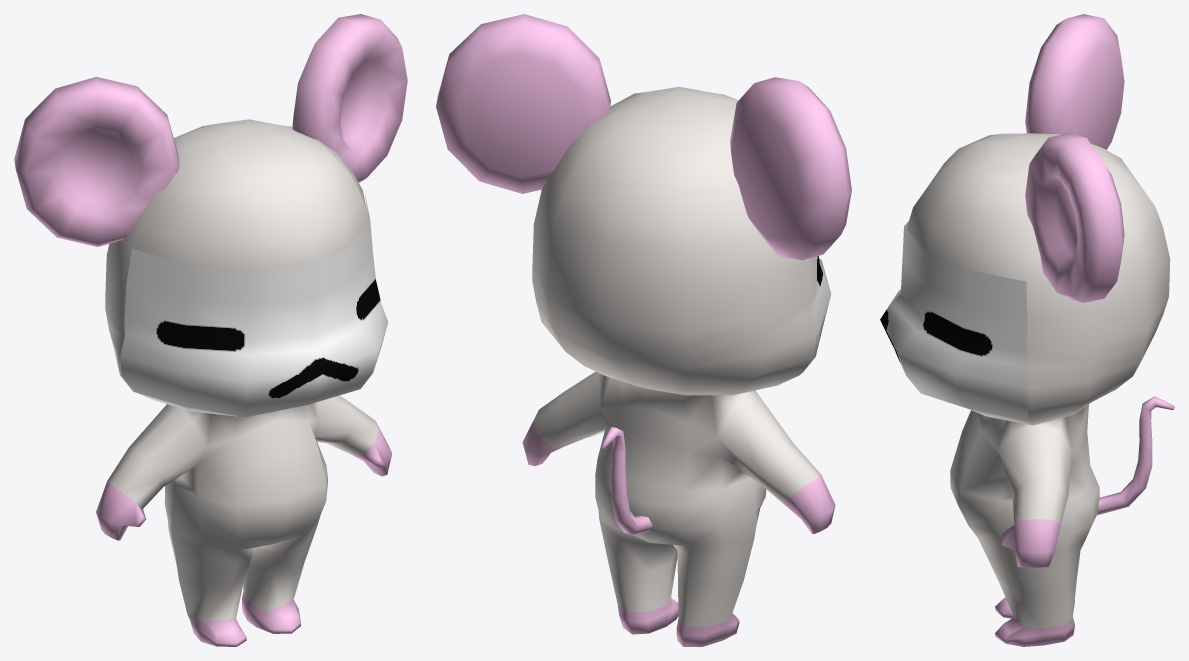
Rendered from test-mouse 1.fbx.
3 views of the same model, side by side, from view 1: azimuth 30°, elevation 25°; view 2: azimuth 150°, elevation 25°; view 3: azimuth 270°, elevation 25° (orthographic). The views are drawn at different scales.
Parts seen in each view (by area): view 1: body, face, head-features; view 2: body, head-features, tail, face; view 3: body, head-features, face, tail.
Part boxes in pixels (<box>): body: <box>96,119,392,646</box>; face: <box>120,194,388,417</box>; head-features: <box>14,14,407,246</box>; body: <box>522,87,835,646</box>; head-features: <box>436,14,851,260</box>; tail: <box>601,426,652,534</box>; face: <box>802,256,831,373</box>; body: <box>907,133,1170,646</box>; head-features: <box>1025,14,1124,302</box>; face: <box>880,221,1028,421</box>; tail: <box>1097,396,1174,515</box>.
Size of the model in its own units: 160 by 219 by 108.
